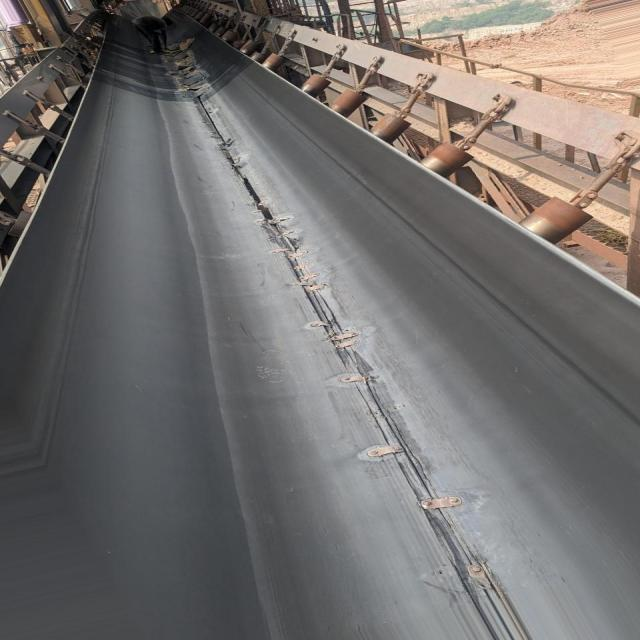Human: (131, 14, 173, 51)
Roller: (170, 2, 601, 242)
Tear: (196, 99, 267, 226)
patch work: (350, 398, 527, 628), (273, 215, 379, 395), (165, 43, 216, 98)
